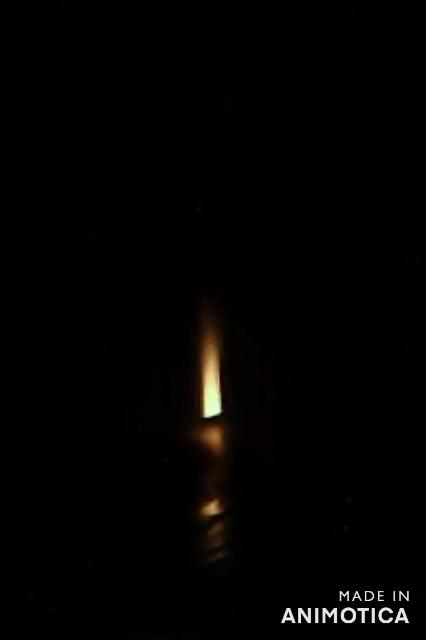burner flame: (198, 320, 226, 420)
